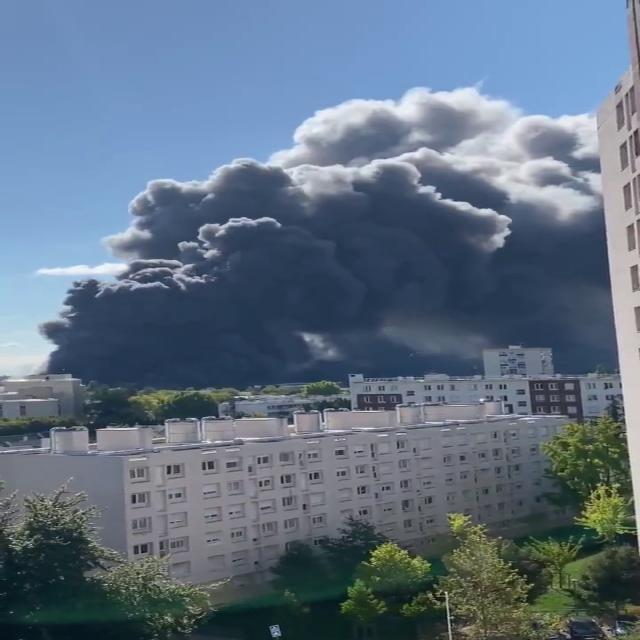Smoke: (39, 88, 616, 392)
